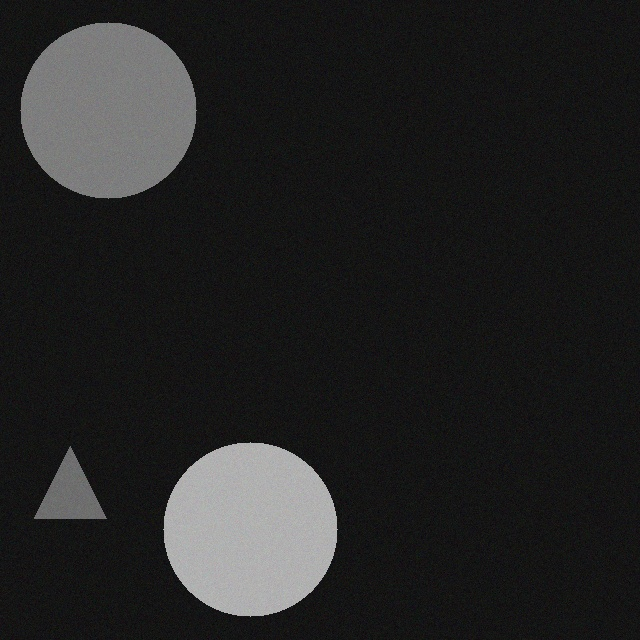circle: (18, 16, 194, 192), (161, 436, 335, 610)
triangle: (32, 440, 104, 512)
